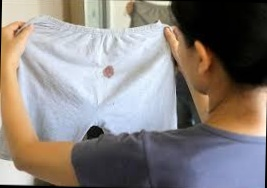blood: (101, 64, 115, 80)
